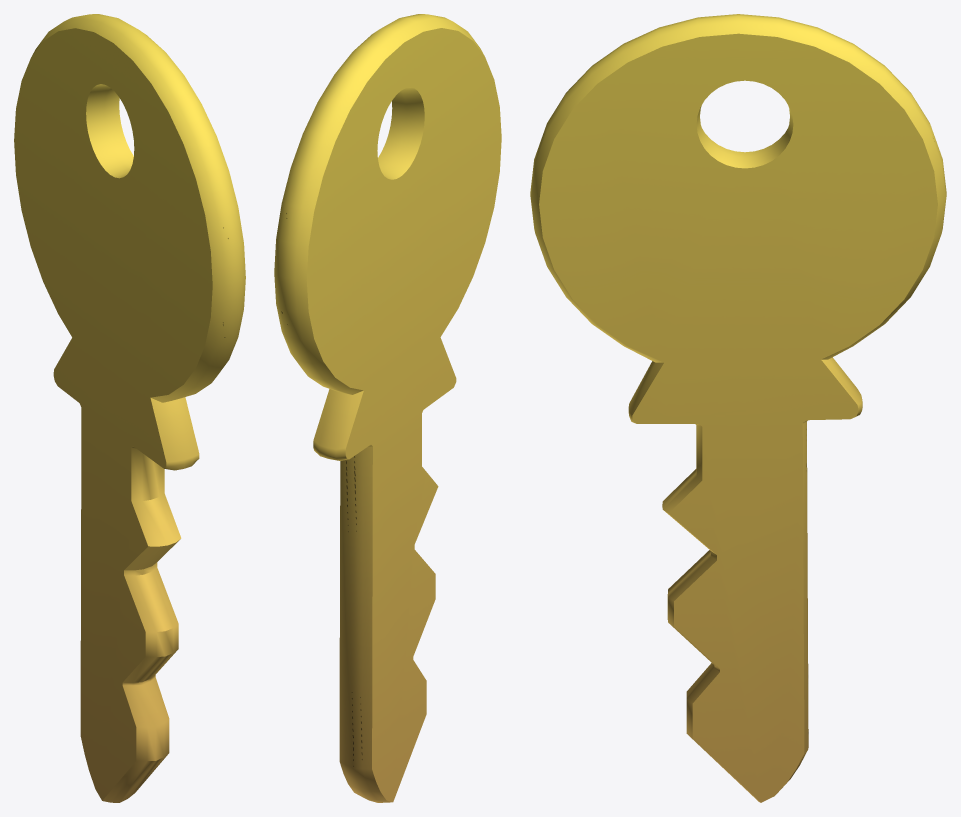
File: key.fbx
3 renders of one model, left to right at view 1: azimuth 30°, elevation 25°; view 2: azimuth 150°, elevation 25°; view 3: azimuth 270°, elevation 25°, orthographic. The views are drawn at different scales.
Parts seen in each view (by area): view 1: Key; view 2: Key; view 3: Key.
Boxes of the visible parts, left/top/right/bottom form: Key: left=14, top=14, right=245, bottom=802; Key: left=274, top=14, right=501, bottom=802; Key: left=530, top=14, right=946, bottom=802.
Bounding box in the file's own units: 9.15 × 206 × 99.14.
